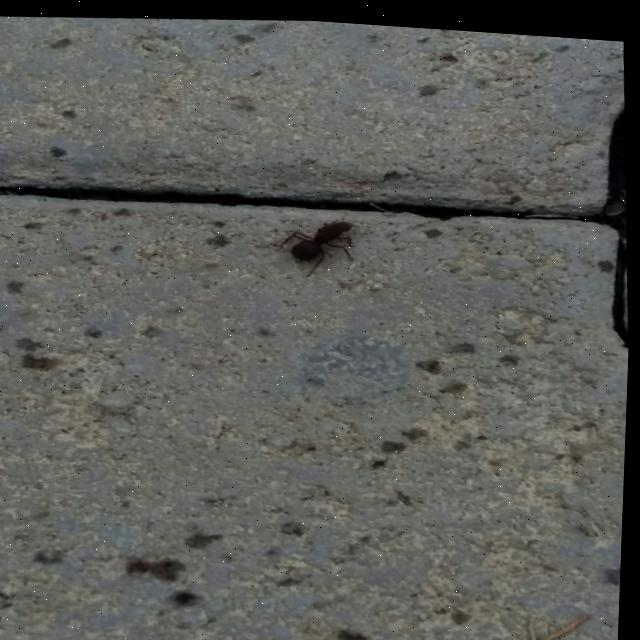Alive-Female-Dealate: (273, 204, 381, 278)
